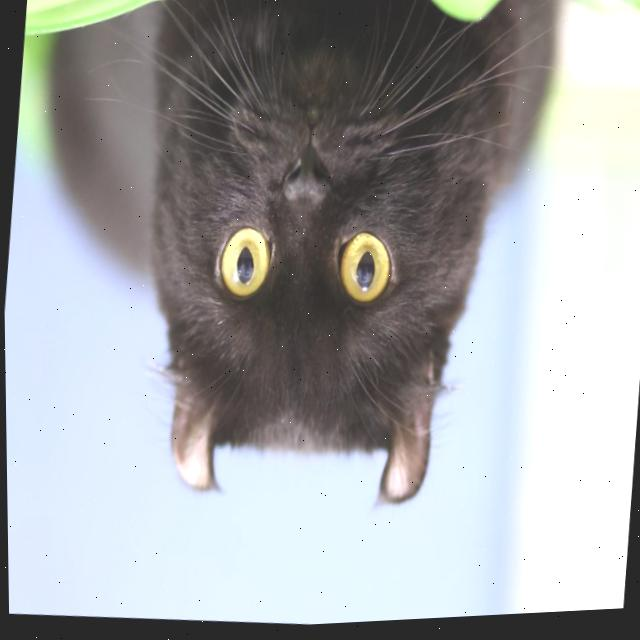American Curl: (6, 0, 571, 544)
